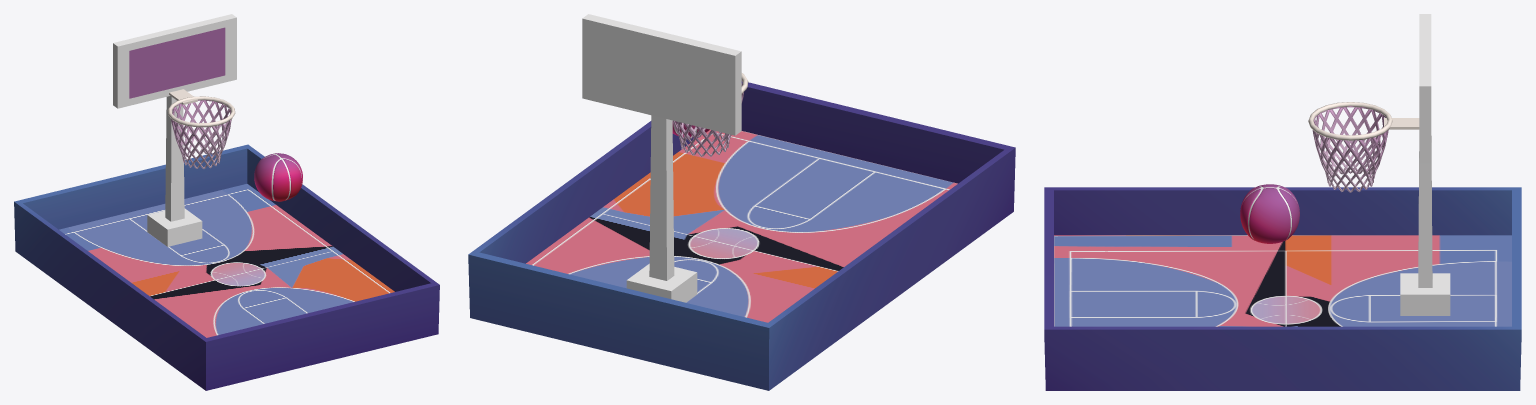
Rendered from Saha_Pota_Top_2.fbx.
The picture shows the model from 3 angles, left to right: view 1: azimuth 30°, elevation 25°; view 2: azimuth 150°, elevation 25°; view 3: azimuth 270°, elevation 25°; orthographic projection. The views are drawn at different scales.
Parts seen in each view (by area): view 1: Cube.017, pota, file, top.004; view 2: Cube.017, pota, file; view 3: Cube.017, pota, file, top.004.
Part boxes in pixels (<box>): Cube.017: <box>14,144,439,390</box>; pota: <box>113,14,236,246</box>; file: <box>167,89,235,168</box>; top.004: <box>254,153,302,201</box>; Cube.017: <box>468,81,1015,390</box>; pota: <box>582,14,741,302</box>; file: <box>673,73,748,156</box>; Cube.017: <box>1044,187,1521,390</box>; pota: <box>1400,14,1450,315</box>; file: <box>1308,102,1419,192</box>; top.004: <box>1240,184,1299,243</box>.
Bounding box in the file's own units: 11887 × 10648 × 16868.
Materials: 2 (2 with a texture image).
